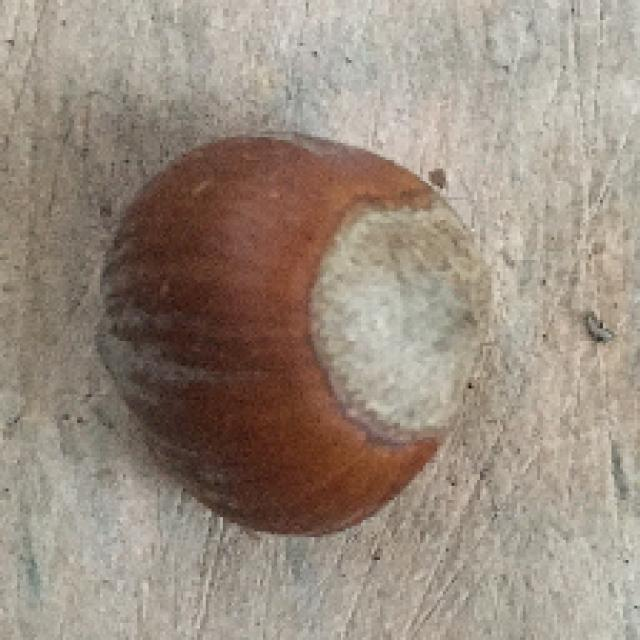damagedHazelnut: (89, 123, 523, 545)
